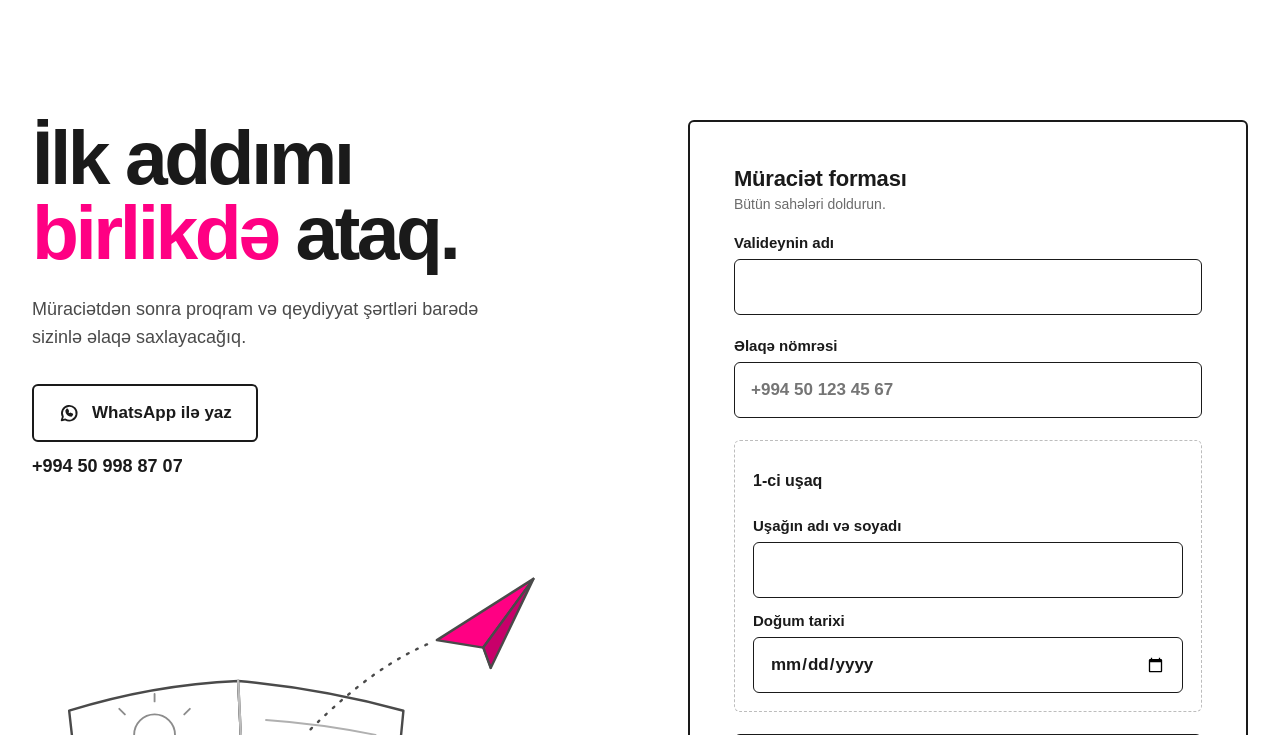
Apply form › children › shows the child age on the programme start date and warns outside 8–13
The width and height of the screenshot is (1280, 735).
Type "2016-05-20" into the date field labelled "Doğum tarixi".
click(968, 665); type("2016-05-20")  # box [753,637,1183,693]
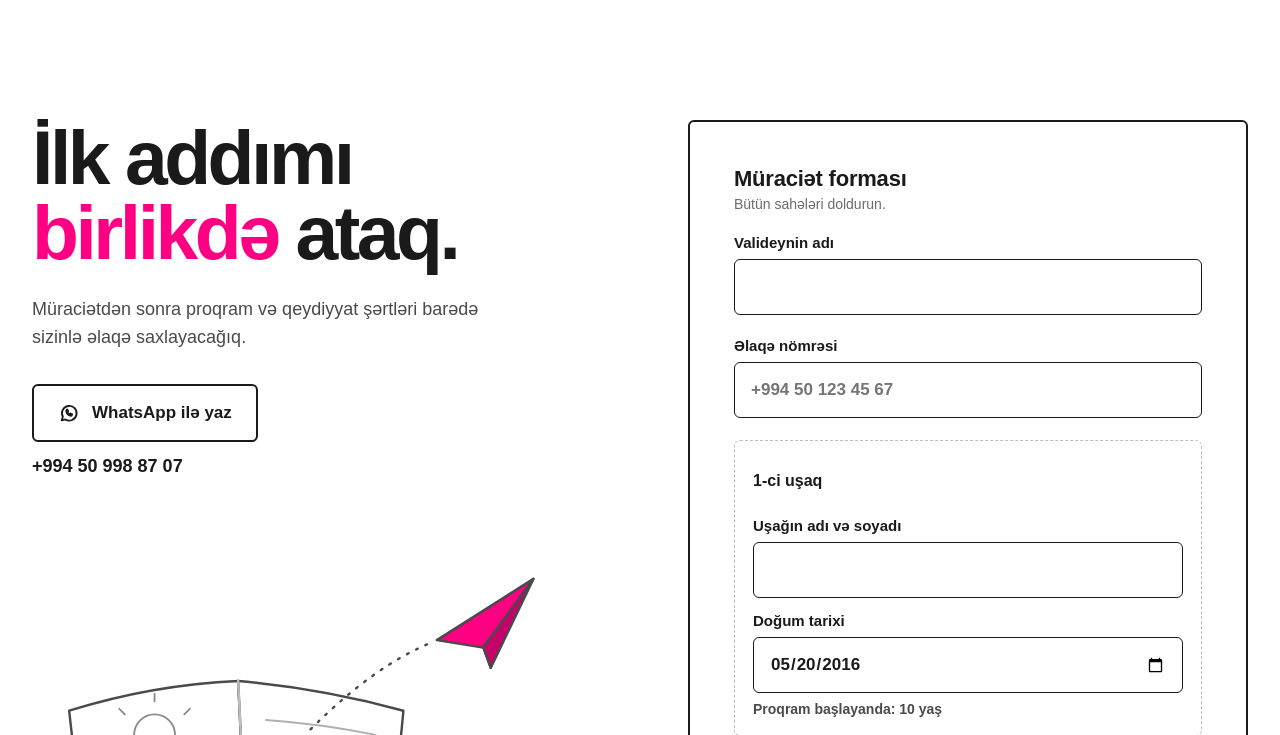
Expected: the text "Proqram başlayanda: 10 yaş" is shown, [753,701,942,717]
Type "2010-01-01" into the date field labelled "Doğum tarixi".
click(968, 665); type("2010-01-01")  # box [753,637,1183,693]
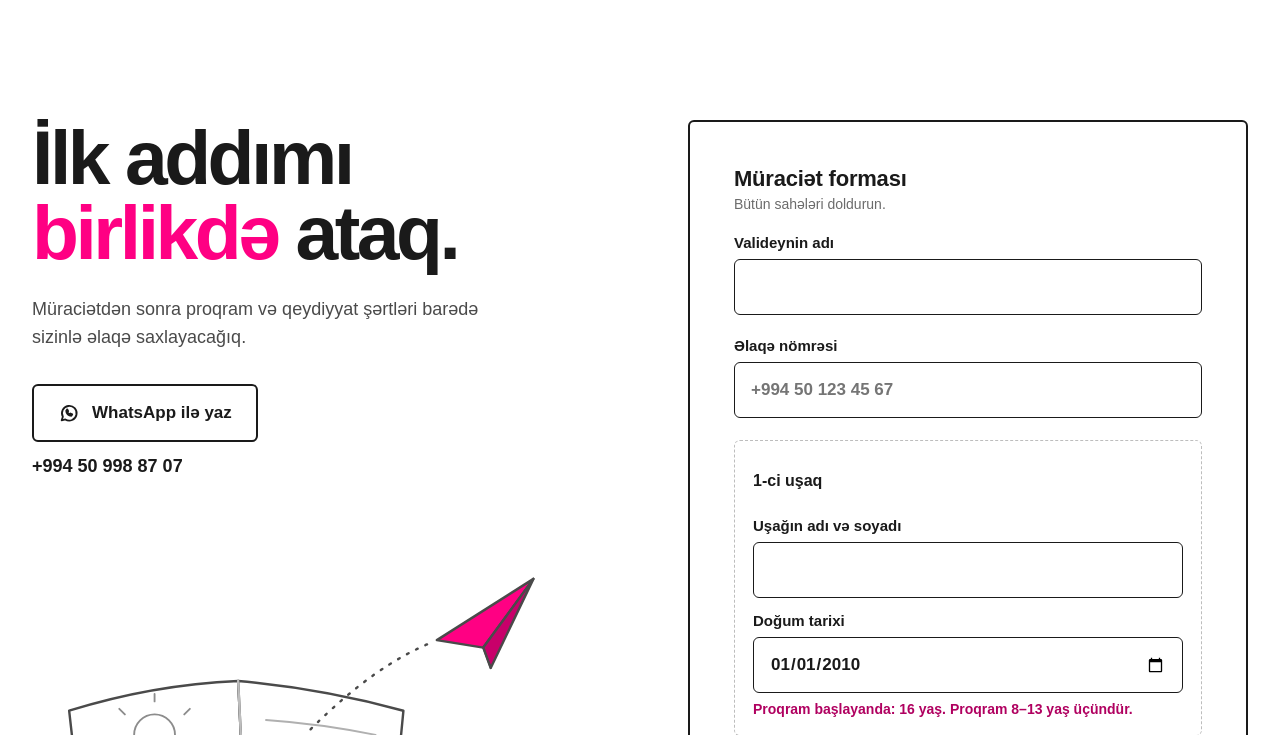
Expected: the text "Proqram başlayanda: 16 yaş. Proqram 8–13 yaş üçündür." is shown, [753,701,1183,717]
